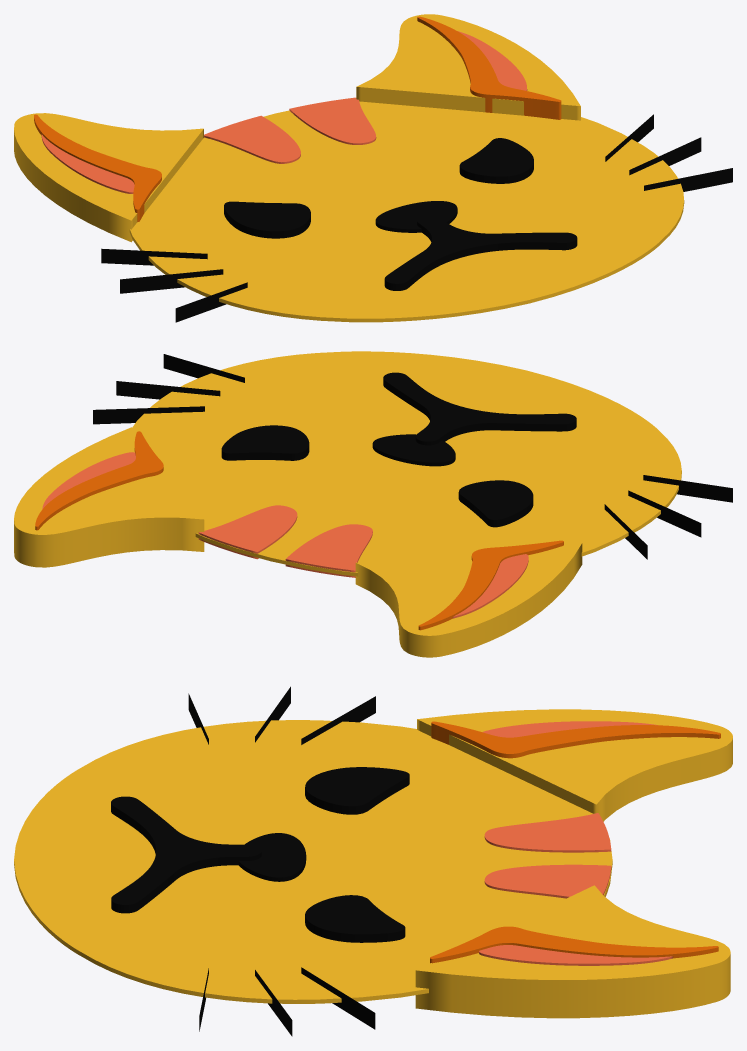
The model's file is emoji_u1f63e.glb.
3 views of the same model, one above another, from view 1: azimuth 30°, elevation 25°; view 2: azimuth 150°, elevation 25°; view 3: azimuth 270°, elevation 25° (orthographic). The views are drawn at different scales.
Visible parts, largest first — view 1: emoji_u1f63e; view 2: emoji_u1f63e; view 3: emoji_u1f63e.
Part boxes in pixels (x1=…): emoji_u1f63e: x1=14, y1=14, x2=732, y2=322; emoji_u1f63e: x1=14, y1=351, x2=732, y2=657; emoji_u1f63e: x1=14, y1=686, x2=732, y2=1036.
Size of the model in its own units: 0.0338 by 0.0022 by 0.0308.
